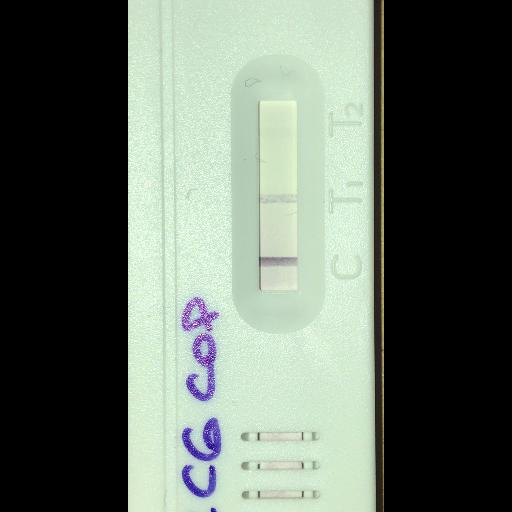Pos: (128, 0, 381, 511)
